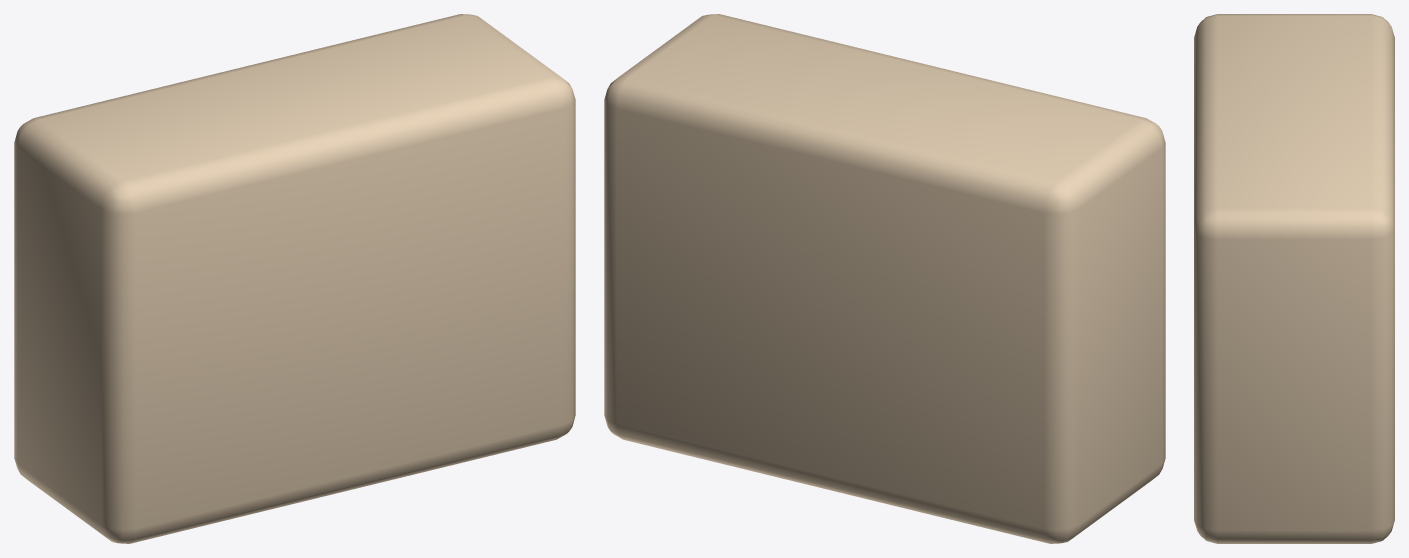
The model's file is unit_block.glb.
The picture shows the model from 3 angles, left to right: view 1: azimuth 30°, elevation 25°; view 2: azimuth 150°, elevation 25°; view 3: azimuth 270°, elevation 25°; orthographic projection. The views are drawn at different scales.
Parts seen in each view (by area): view 1: unit_block; view 2: unit_block; view 3: unit_block.
Boxes of the visible parts, <box> form: unit_block: <box>14,14,575,543</box>; unit_block: <box>604,14,1165,543</box>; unit_block: <box>1194,14,1394,543</box>.
Bounding box in the file's own units: 15 × 11 × 6.
